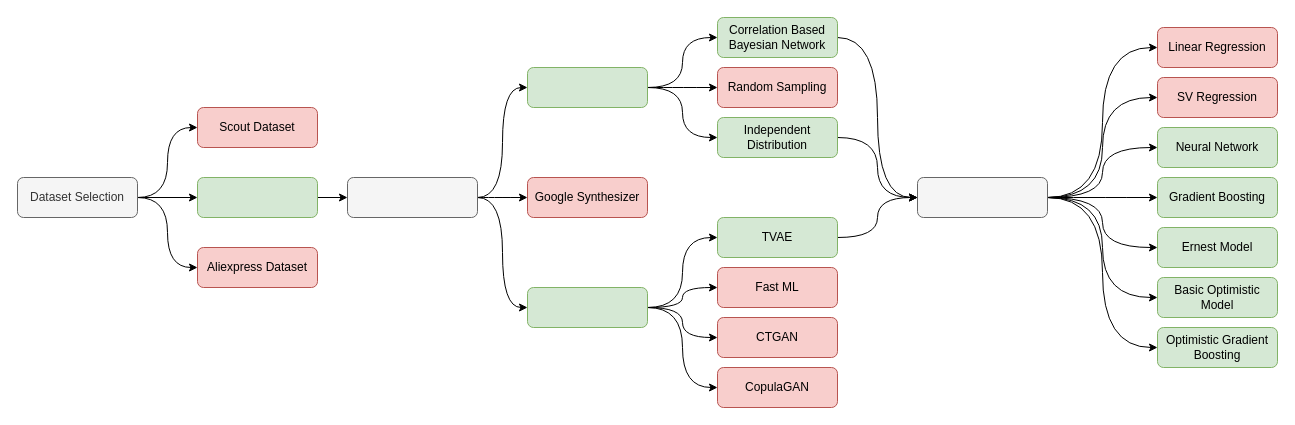
The diagram is 1295 pixels wide and 425 high, and some of its shapes have lost their labels. The centre of each missing label's shape, as x and y in pixels:
"C3O Dataset" belongs at point 257,197.
"DataSynthesizer" belongs at point 587,87.
"Evaluation" belongs at point 982,197.
"SDV" belongs at point 587,307.
"Synthesizer Selection" belongs at point 412,197.
